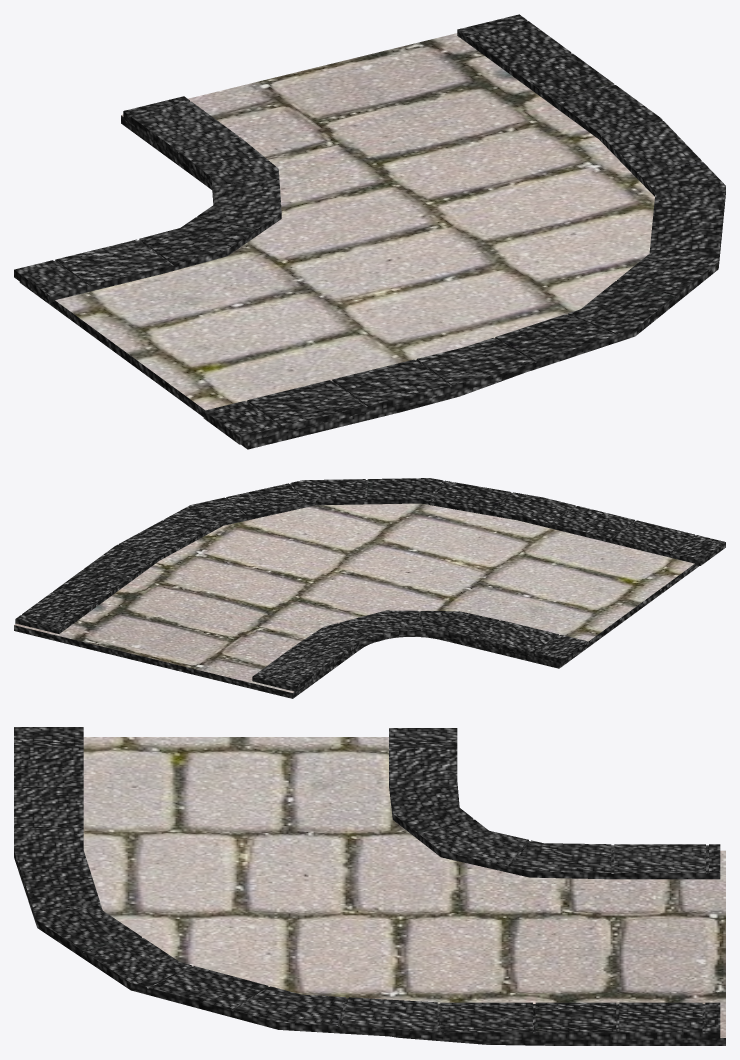
The model's file is curva.obj.
3 views of the same model, one above another, from view 1: azimuth 30°, elevation 25°; view 2: azimuth 150°, elevation 25°; view 3: azimuth 270°, elevation 25° (orthographic). The views are drawn at different scales.
Visible parts, largest first — view 1: doroga2-Ноль_объект; view 2: doroga2-Ноль_объект; view 3: doroga2-Ноль_объект.
Part boxes in pixels (<box>): doroga2-Ноль_объект: <box>14,14,725,449</box>; doroga2-Ноль_объект: <box>14,478,725,698</box>; doroga2-Ноль_объект: <box>14,727,725,1045</box>.
Size of the model in its own units: 689 by 14.91 by 679.
